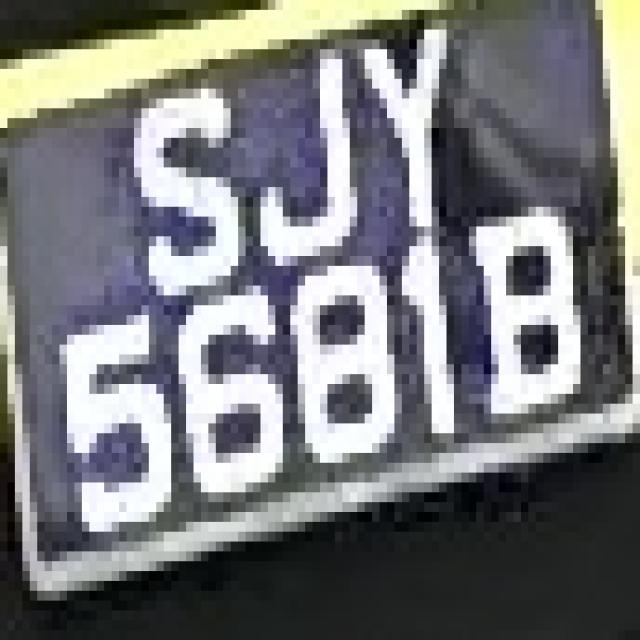1: (387, 217, 469, 472)
5: (44, 286, 178, 552)
6: (178, 266, 298, 502)
8: (268, 246, 402, 492)
B: (462, 158, 580, 443)
J: (231, 10, 372, 276)
S: (104, 79, 261, 315)
Y: (342, 0, 484, 246)
